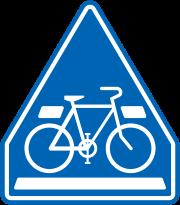Cycle Crossing: (16, 36, 174, 202)
